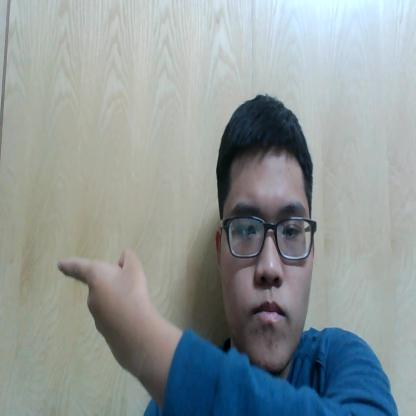right: (46, 234, 156, 390)
